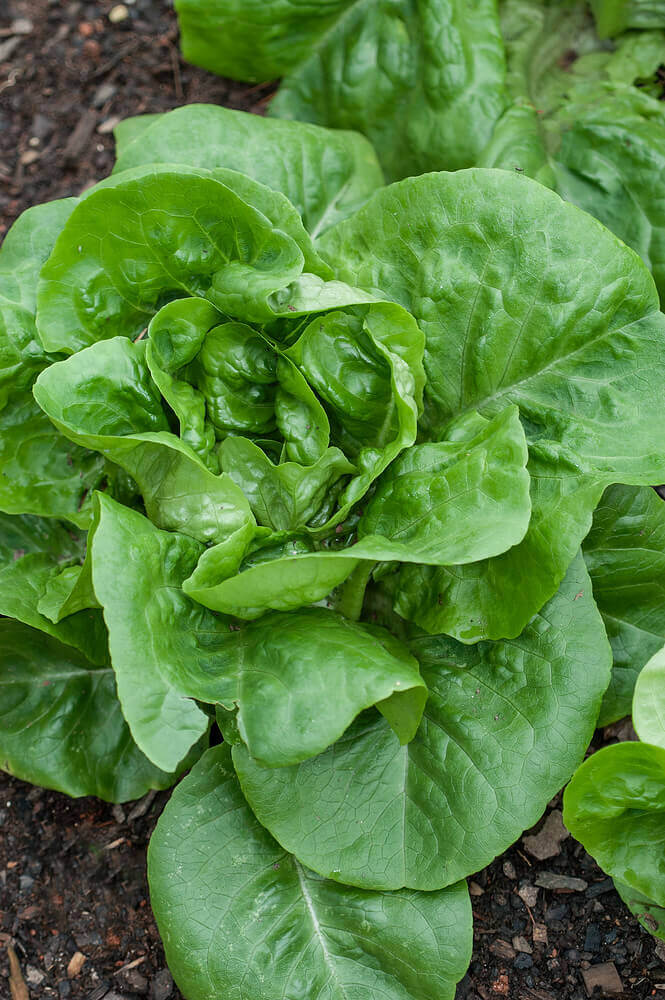lettuce: (23, 103, 637, 900)
